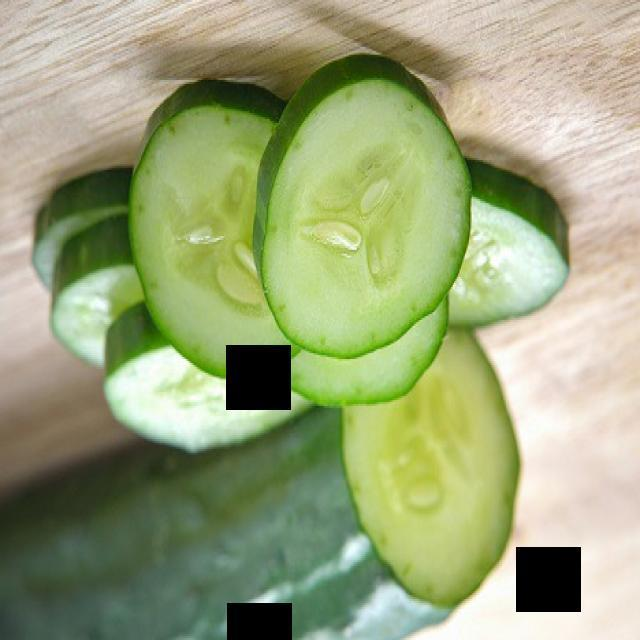cucumber: (1, 66, 608, 640), (249, 29, 518, 382), (326, 255, 534, 639), (129, 107, 328, 390)
